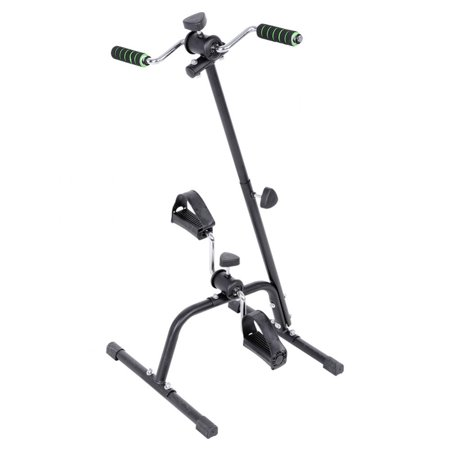gym_bike: (75, 16, 352, 443)
